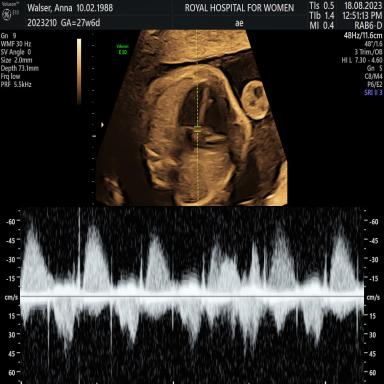Ultrasound-Waves: (26, 208, 359, 384)
